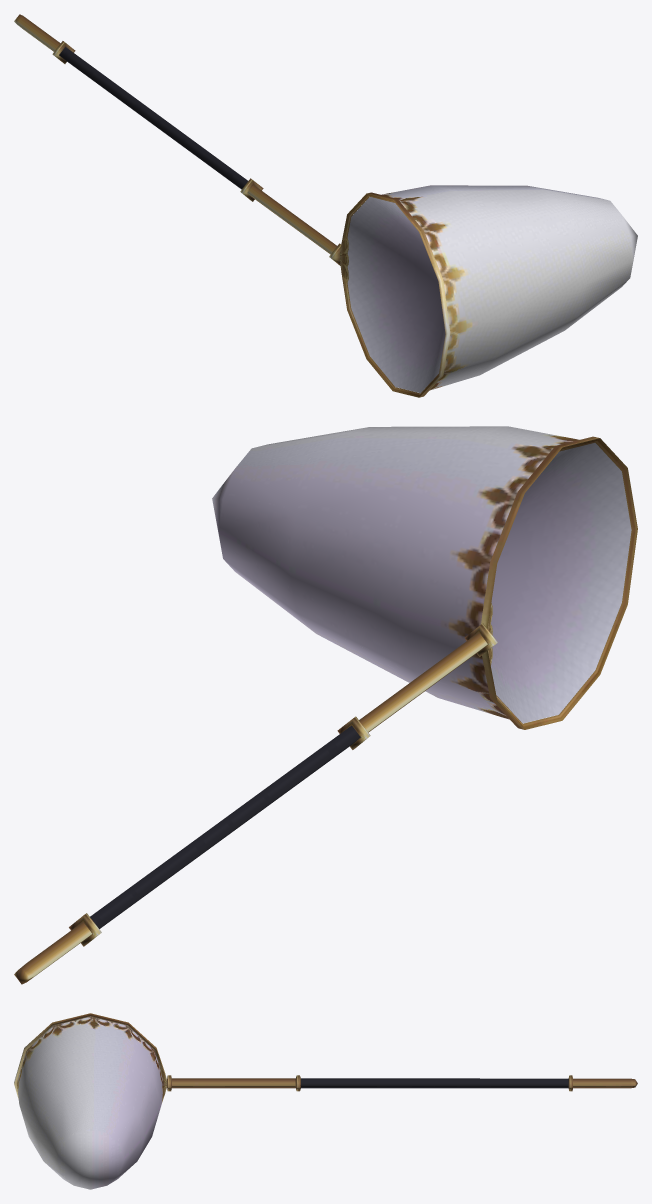
The model's file is mace0139.fbx.
3 views of the same model, one above another, from view 1: azimuth 30°, elevation 25°; view 2: azimuth 150°, elevation 25°; view 3: azimuth 270°, elevation 25° (orthographic). The views are drawn at different scales.
Visible parts, largest first — view 1: mace0139; view 2: mace0139; view 3: mace0139.
Boxes of the visible parts, left/top/right/bottom form: mace0139: left=14, top=14, right=637, bottom=397; mace0139: left=14, top=426, right=637, bottom=984; mace0139: left=14, top=1013, right=637, bottom=1189.
Bounding box in the file's own units: 0.4076 × 0.2941 × 1.2.
